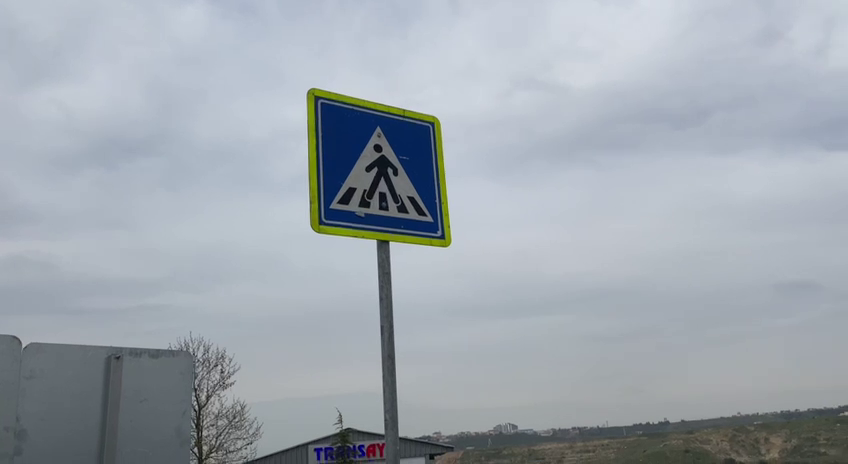pedestrianCrossing: (303, 84, 454, 249)
